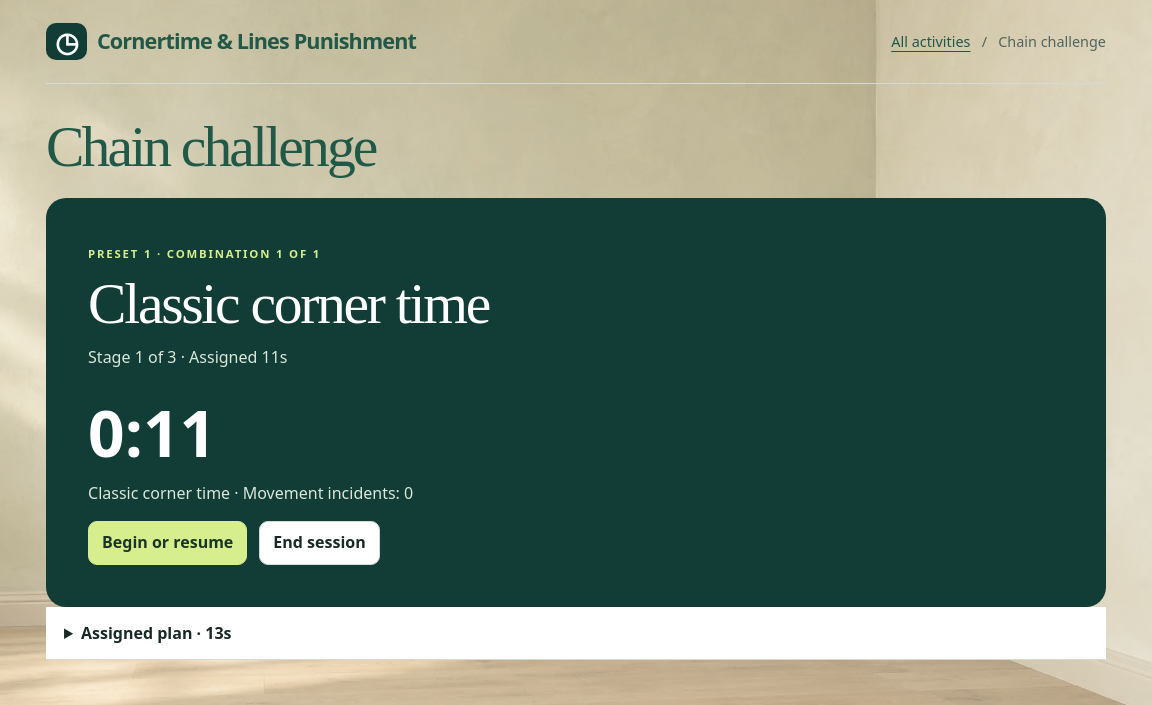
Test: advances a Classic stage, pauses across reload, and finishes continuous typing with advancing keystrokes
The width and height of the screenshot is (1152, 705).
Later steps or results of the test are not shown.
Click the button "Begin or resume" at (168, 543), box [88,521,247,565]
Wait 5000 ms
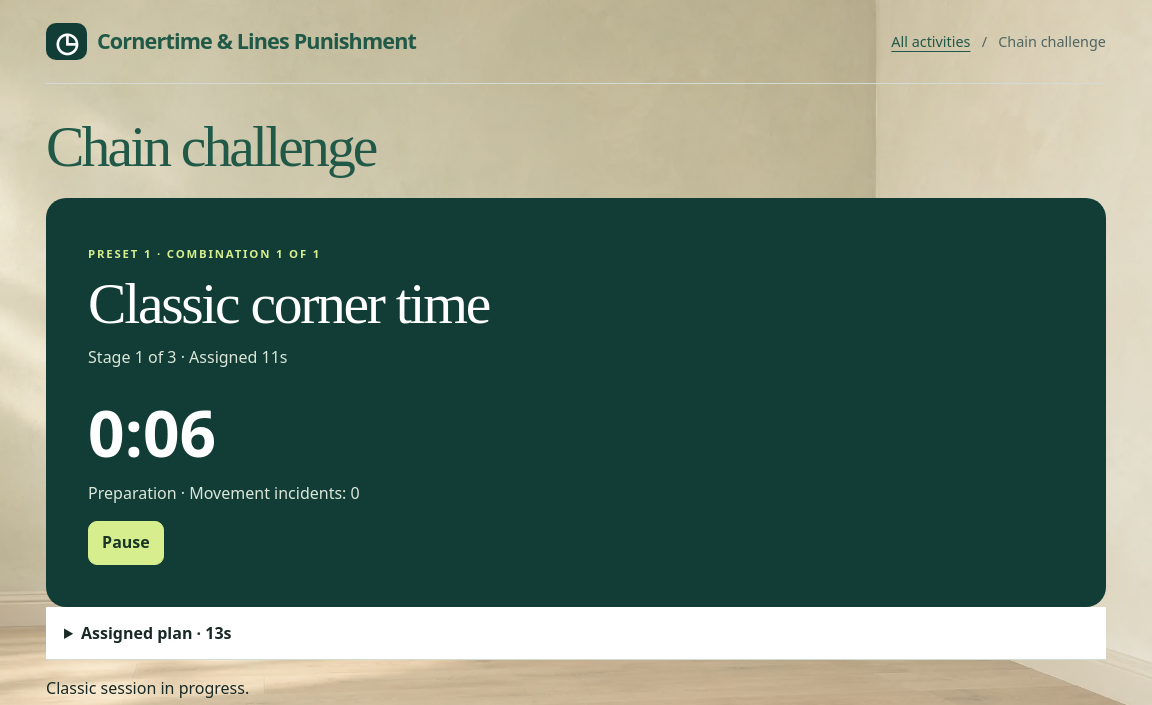
Click the button "Pause" at (126, 543), box [88,521,164,565]
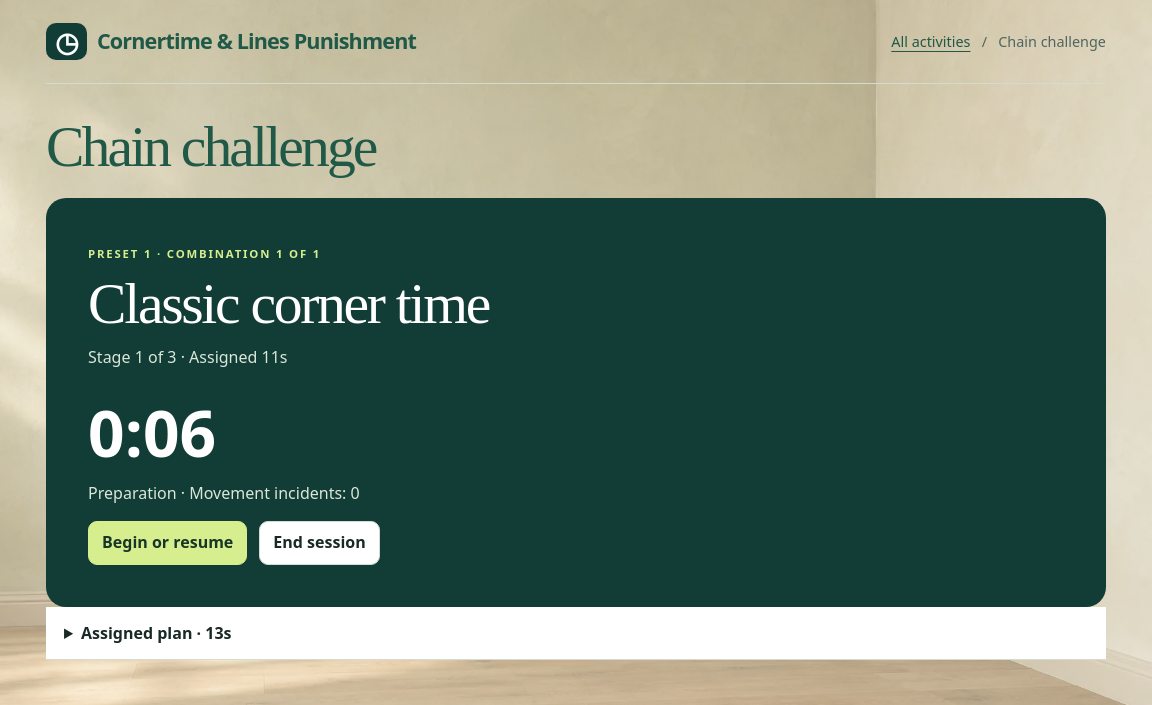
Click the button "Begin or resume" at (168, 543), box [88,521,247,565]
Wait 6000 ms
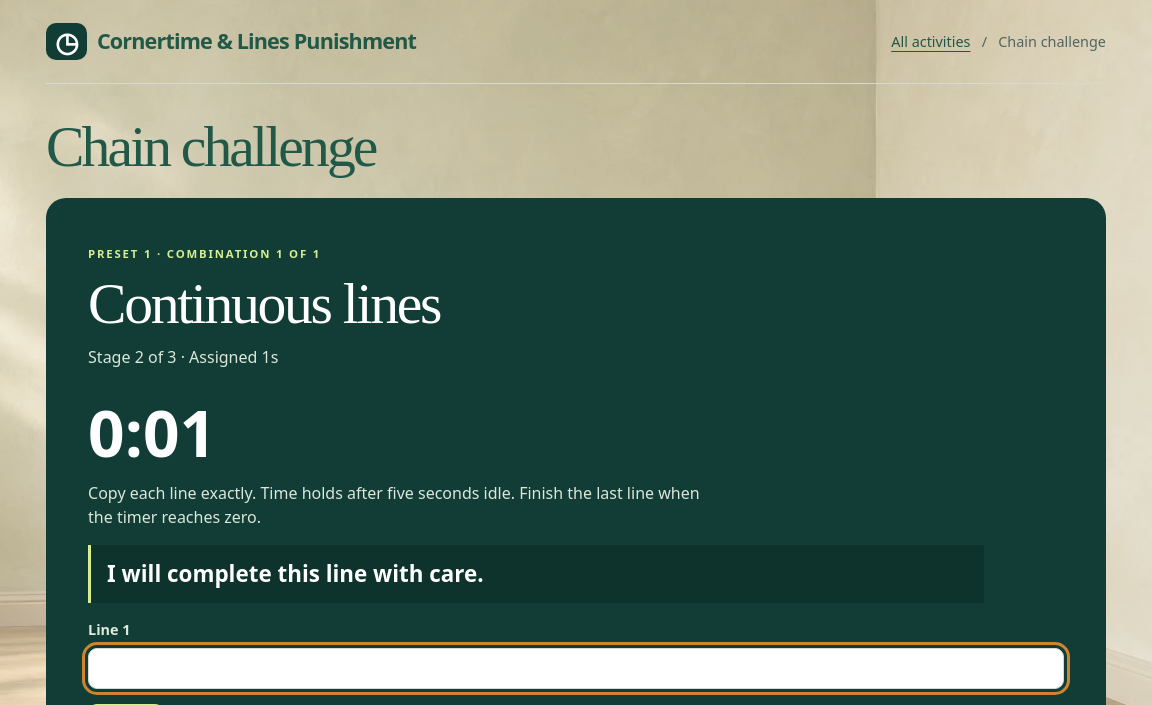
Result: the text "Continuous lines" is shown at [88,272,440,335]
